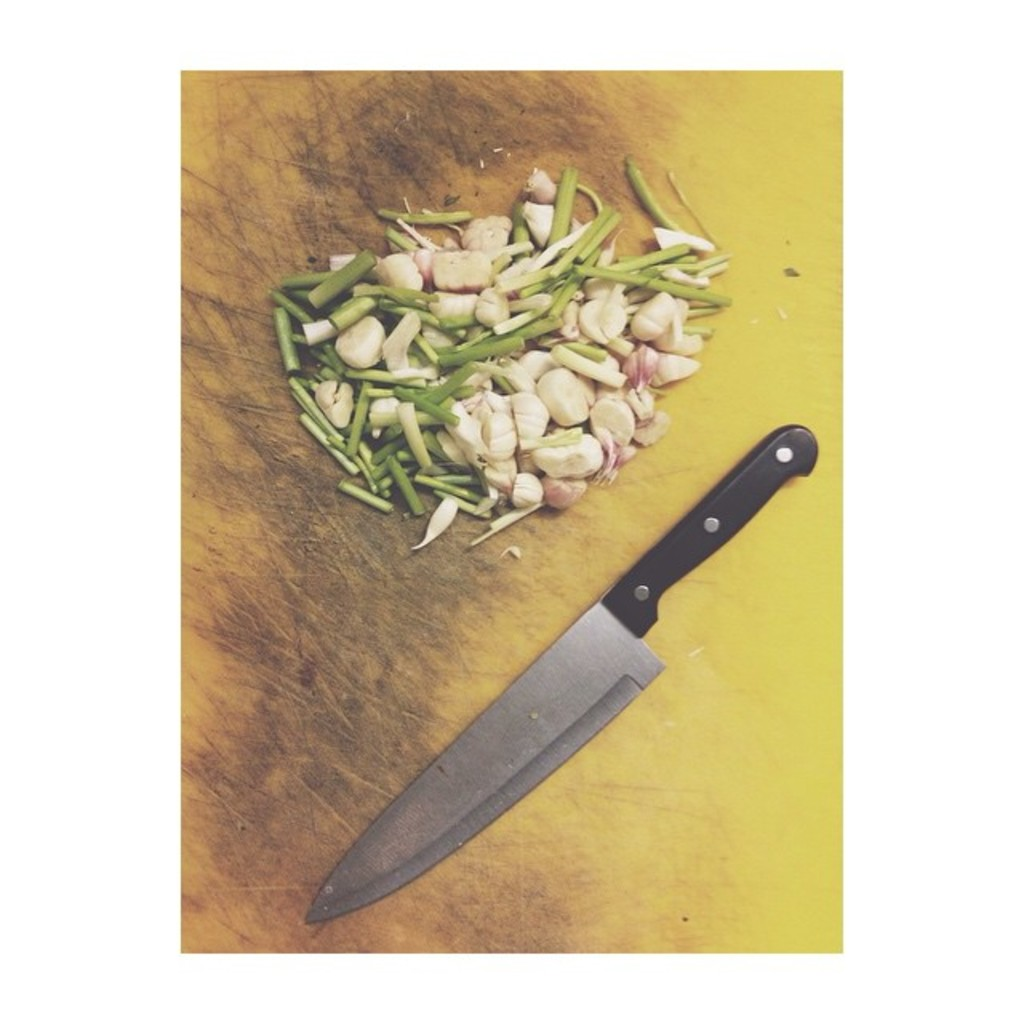kitchen knife: (307, 417, 819, 929)
